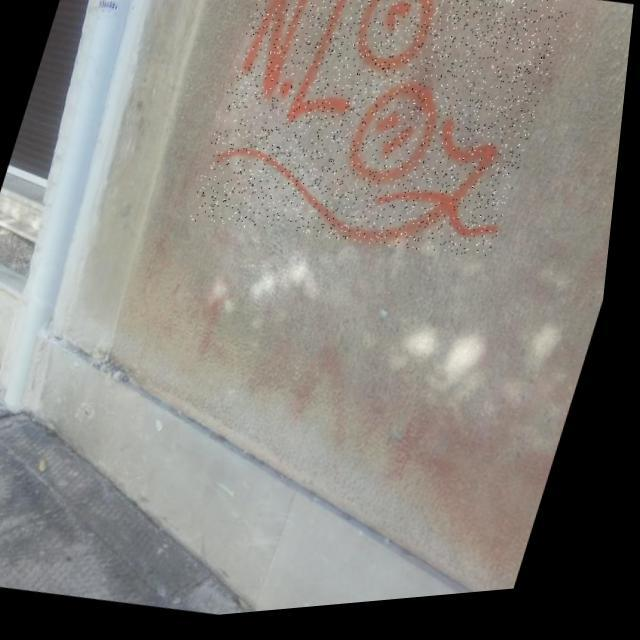-: (186, 0, 576, 289)
